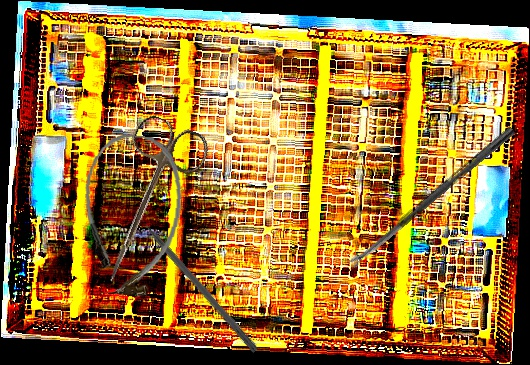Cannula: (73, 130, 189, 301)
Iris Scissors: (78, 110, 214, 298)
Pusher: (128, 204, 261, 354)
Surgical Spoon: (347, 125, 516, 269)
